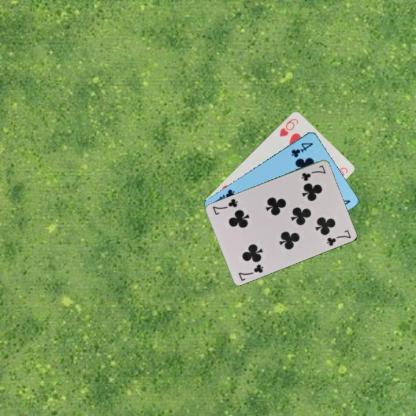4c: (288, 140, 314, 158)
6h: (277, 115, 300, 138)
7c: (235, 261, 264, 282), (299, 162, 327, 182)
